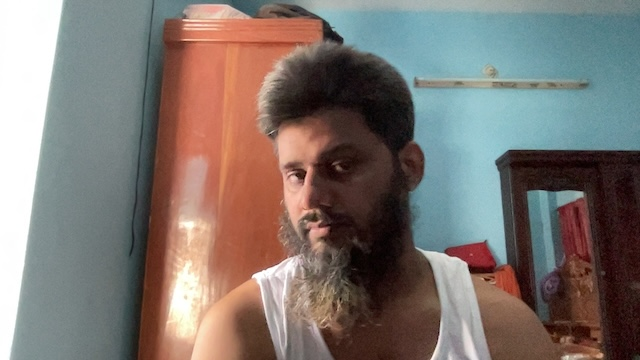Helmet: (243, 38, 429, 301)
